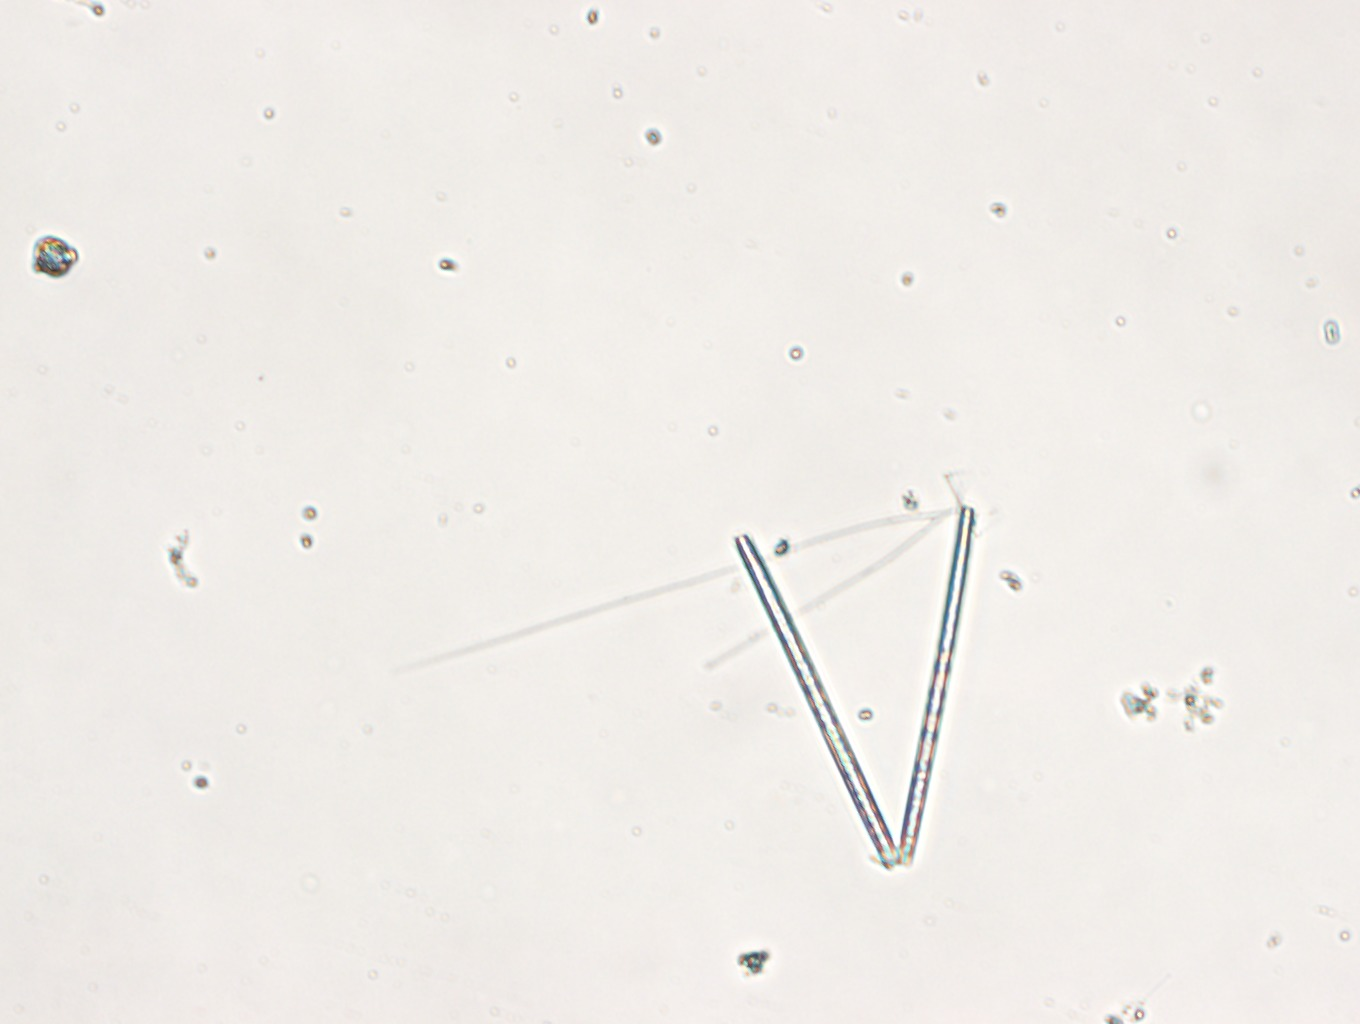thalassionema frauenfeldii: (736, 504, 982, 871)
